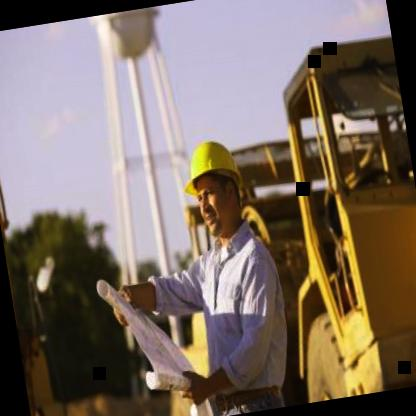helmet: (176, 118, 258, 250)
